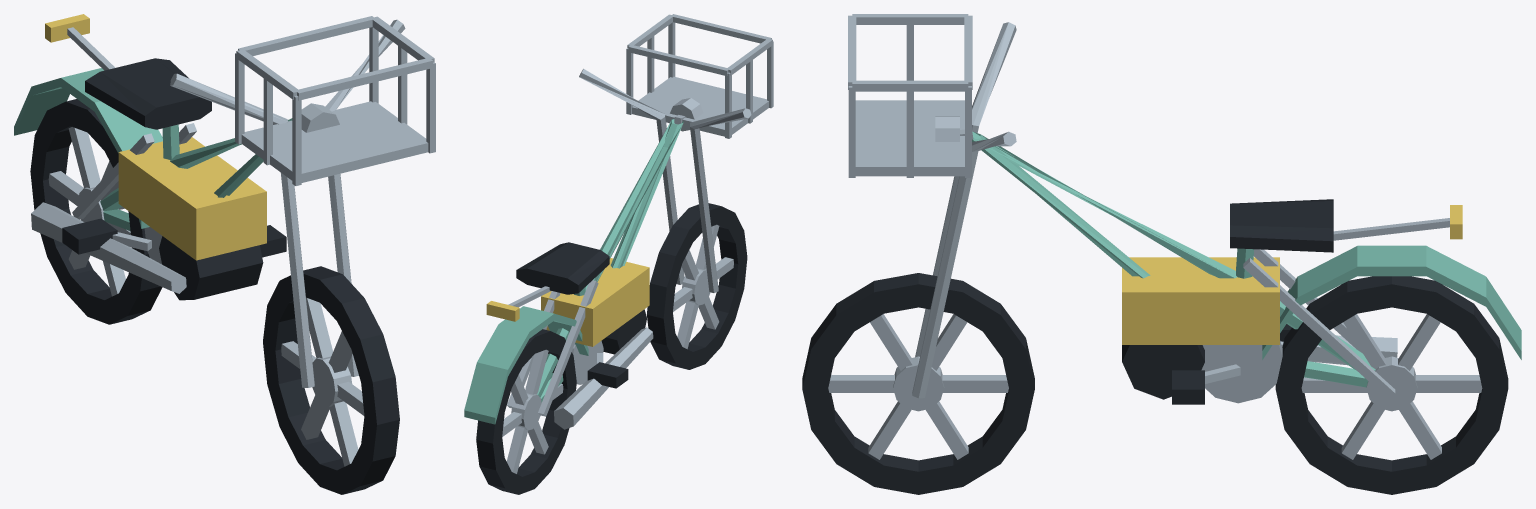
The model's file is moped.glb.
3 views of the same model, side by side, from view 1: azimuth 30°, elevation 25°; view 2: azimuth 150°, elevation 25°; view 3: azimuth 270°, elevation 25° (orthographic). The views are drawn at different scales.
Visible parts, largest first — view 1: bike_body, fork_mesh, wheel_front, wheel_rear; view 2: bike_body, fork_mesh, wheel_front, wheel_rear; view 3: bike_body, wheel_front, wheel_rear, fork_mesh.
Part boxes in pixels (x1,y1,x2,y2): bike_body: (14, 14, 292, 300); fork_mesh: (170, 16, 435, 387); wheel_front: (263, 266, 399, 494); wheel_rear: (30, 99, 162, 324); bike_body: (464, 119, 683, 429); fork_mesh: (579, 14, 773, 292); wheel_front: (646, 203, 747, 369); wheel_rear: (476, 329, 576, 494); bike_body: (972, 131, 1521, 404); wheel_front: (802, 273, 1034, 494); wheel_rear: (1275, 276, 1508, 494); fork_mesh: (848, 14, 1016, 398).
Size of the model in its own units: 0.6582 by 1.17 by 1.73.
